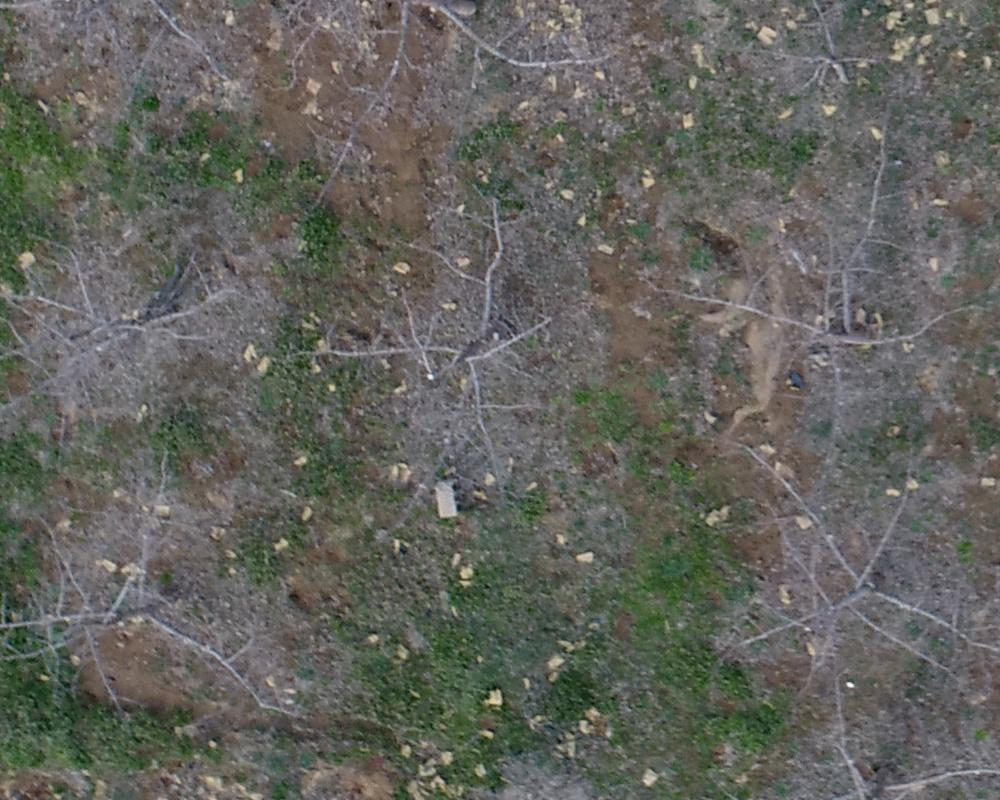apple: (640, 404, 990, 732), (654, 109, 990, 427), (304, 179, 599, 496), (10, 486, 336, 738), (10, 196, 260, 466), (674, 657, 990, 790)
